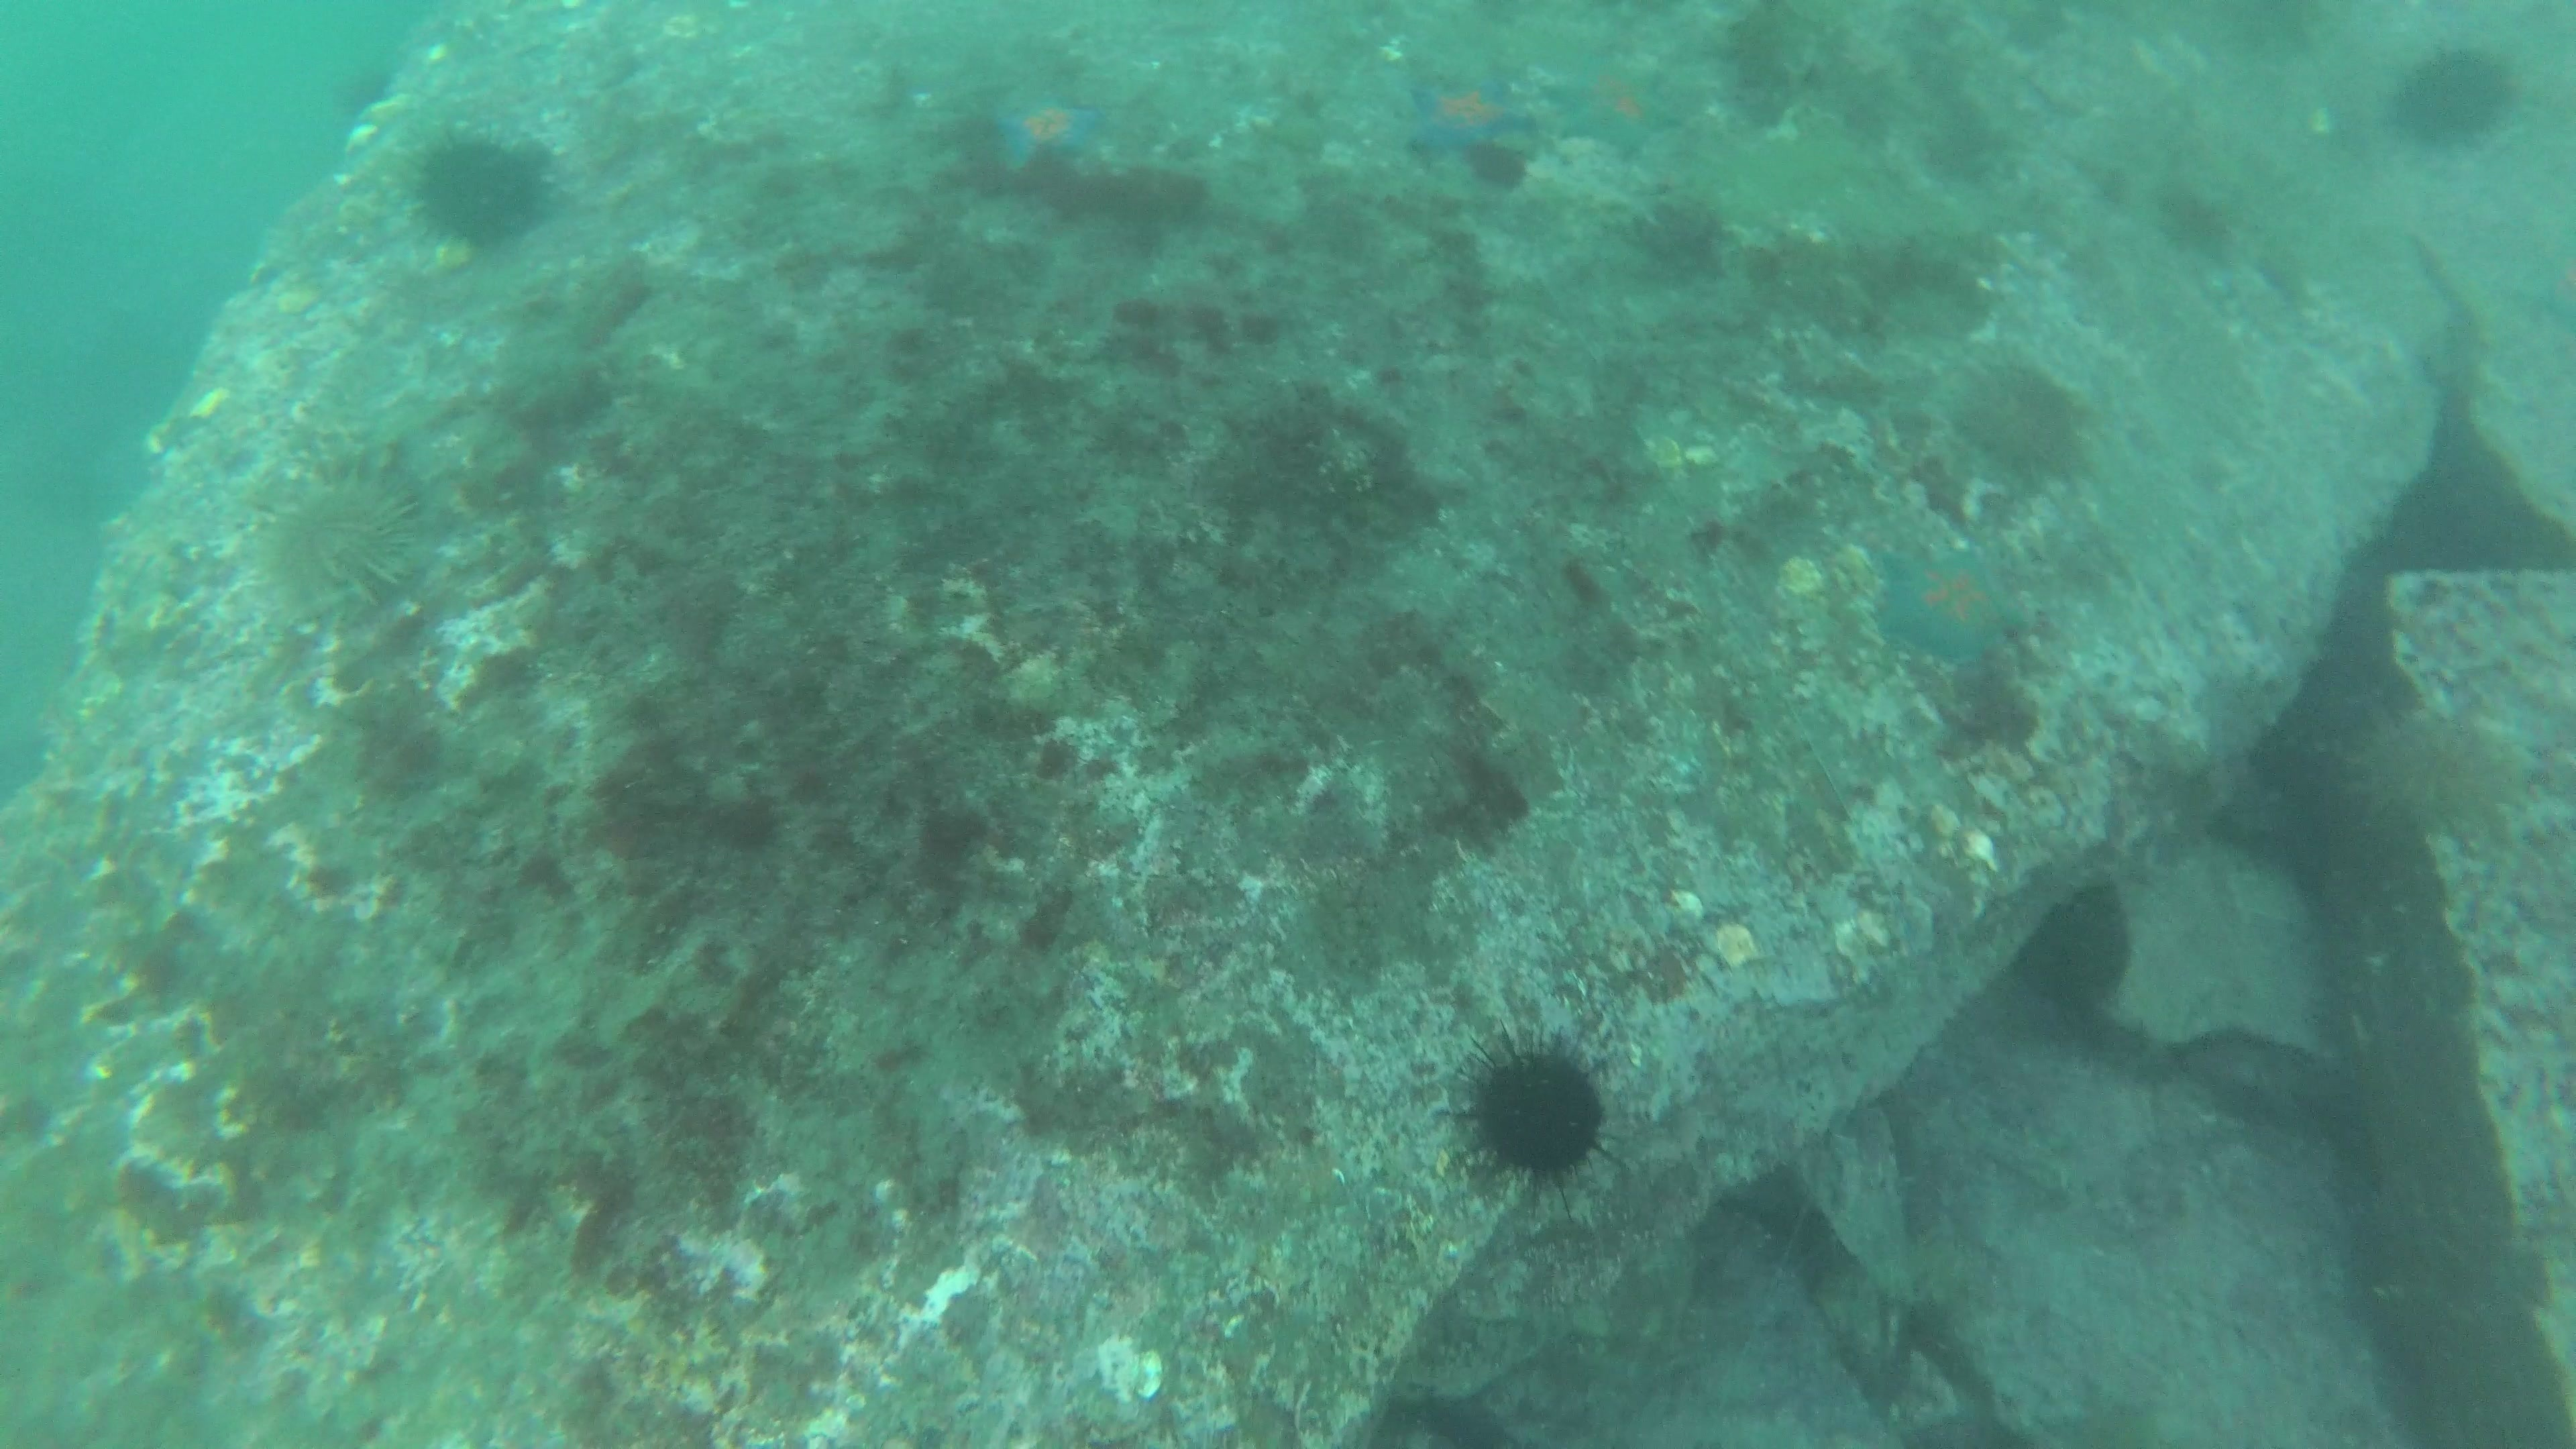echinus: (251, 453, 432, 625), (1453, 1024, 1619, 1194), (2341, 699, 2521, 847), (402, 120, 559, 255), (1948, 352, 2095, 488), (2383, 39, 2525, 156)
starfish: (1868, 533, 2035, 669), (1541, 51, 1691, 161), (1394, 60, 1537, 168), (980, 81, 1116, 182)
